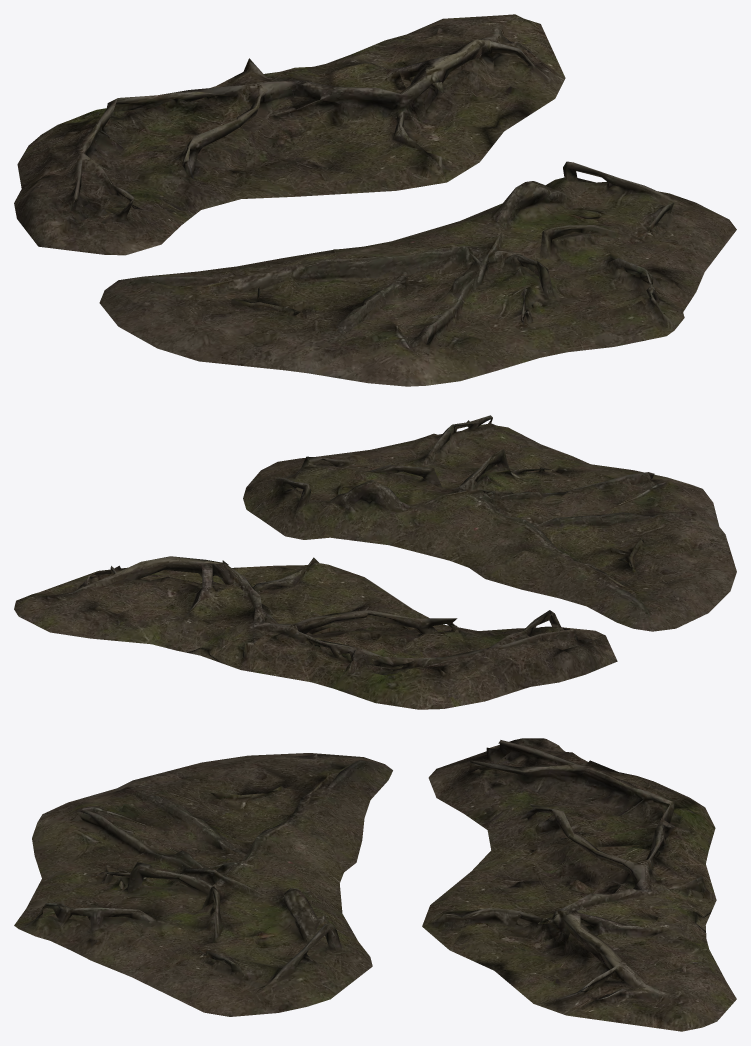
Rendered from roots.glb.
The picture shows the model from 3 angles, top to bottom: view 1: azimuth 30°, elevation 25°; view 2: azimuth 150°, elevation 25°; view 3: azimuth 270°, elevation 25°; orthographic projection. The views are drawn at different scales.
Parts seen in each view (by area): view 1: pine_roots_b, pine_roots_a; view 2: pine_roots_b, pine_roots_a; view 3: pine_roots_b, pine_roots_a.
Part boxes in pixels (x1,y1,x2,y2): pine_roots_b: [99, 161, 736, 386]; pine_roots_a: [14, 14, 565, 255]; pine_roots_b: [243, 415, 736, 631]; pine_roots_a: [14, 556, 617, 709]; pine_roots_b: [14, 753, 392, 1016]; pine_roots_a: [422, 738, 736, 1031].
Bounding box in the file's own units: 1.77 × 0.1446 × 1.89.
2 materials, 2 textured.
